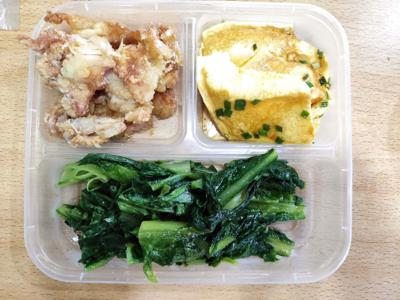df: (197, 20, 332, 146)
ymc: (52, 155, 334, 268)
